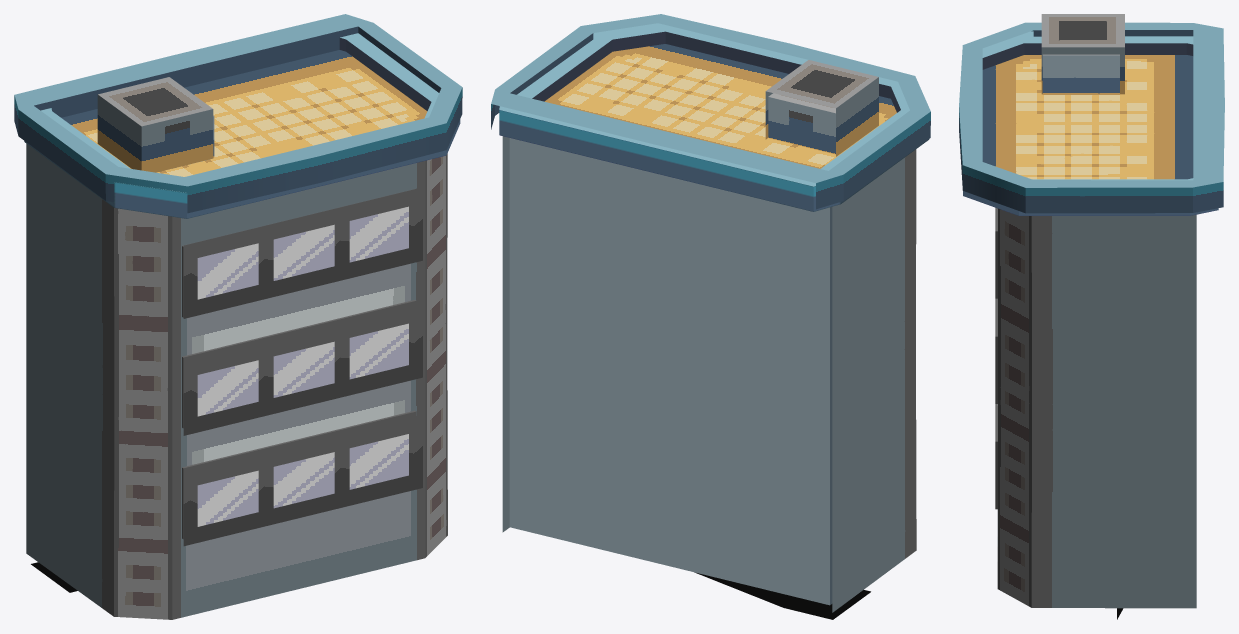
File: goldenrod2.glb
The picture shows the model from 3 angles, left to right: view 1: azimuth 30°, elevation 25°; view 2: azimuth 150°, elevation 25°; view 3: azimuth 270°, elevation 25°; orthographic projection. The views are drawn at different scales.
Parts seen in each view (by area): view 1: Goldenrod City Building 2, Cube.001, Cube.011, Cube.015, Cube.007; view 2: Cube, Goldenrod City Building 2, Cube.001, Cube.002; view 3: Goldenrod City Building 2, Cube.001, Cube.002.
Part boxes in pixels (left/top/right/bottom): Goldenrod City Building 2: left=14, top=14, right=462, bottom=619; Cube.001: left=24, top=33, right=460, bottom=218; Cube.011: left=182, top=300, right=416, bottom=428; Cube.015: left=182, top=412, right=416, bottom=539; Cube.007: left=182, top=410, right=416, bottom=522; Cube: left=509, top=138, right=832, bottom=605; Goldenrod City Building 2: left=491, top=14, right=930, bottom=619; Cube.001: left=499, top=23, right=929, bottom=211; Cube.002: left=768, top=93, right=835, bottom=154; Goldenrod City Building 2: left=959, top=14, right=1224, bottom=619; Cube.001: left=963, top=31, right=1218, bottom=215; Cube.002: left=1042, top=54, right=1119, bottom=94.
Size of the model in its own units: 4.92 by 6.42 by 3.34.
Materials: 9 (9 with a texture image).
